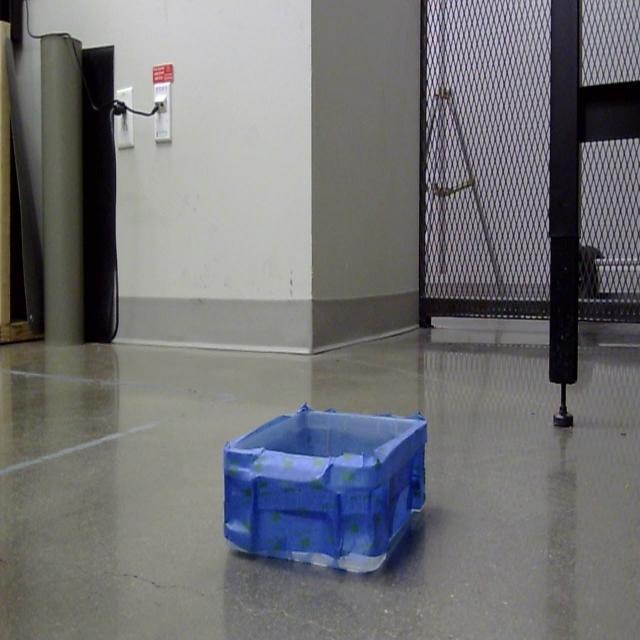bucket: (222, 405, 428, 577)
